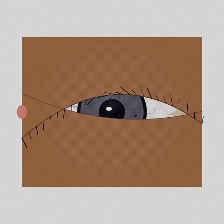pterygium_lesion: (165, 98, 201, 126)
